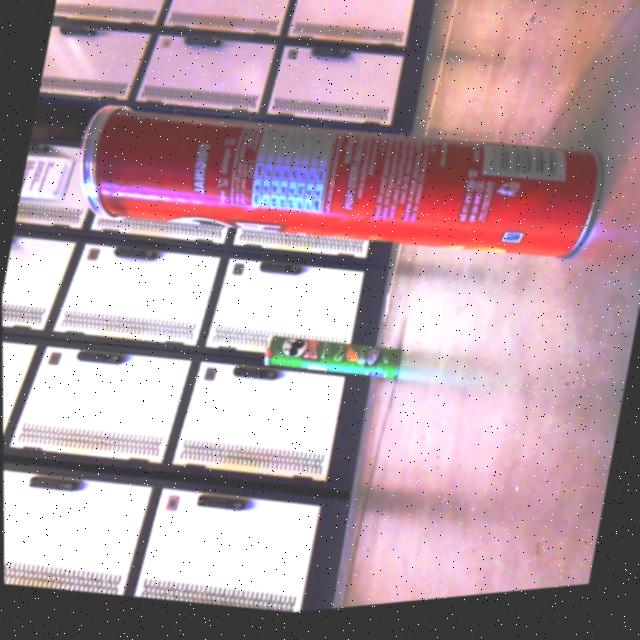greenpringles: (253, 318, 412, 412)
redpringles: (54, 44, 622, 323)
